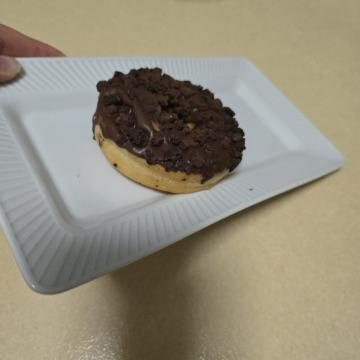doughnut: (56, 109, 202, 281)
